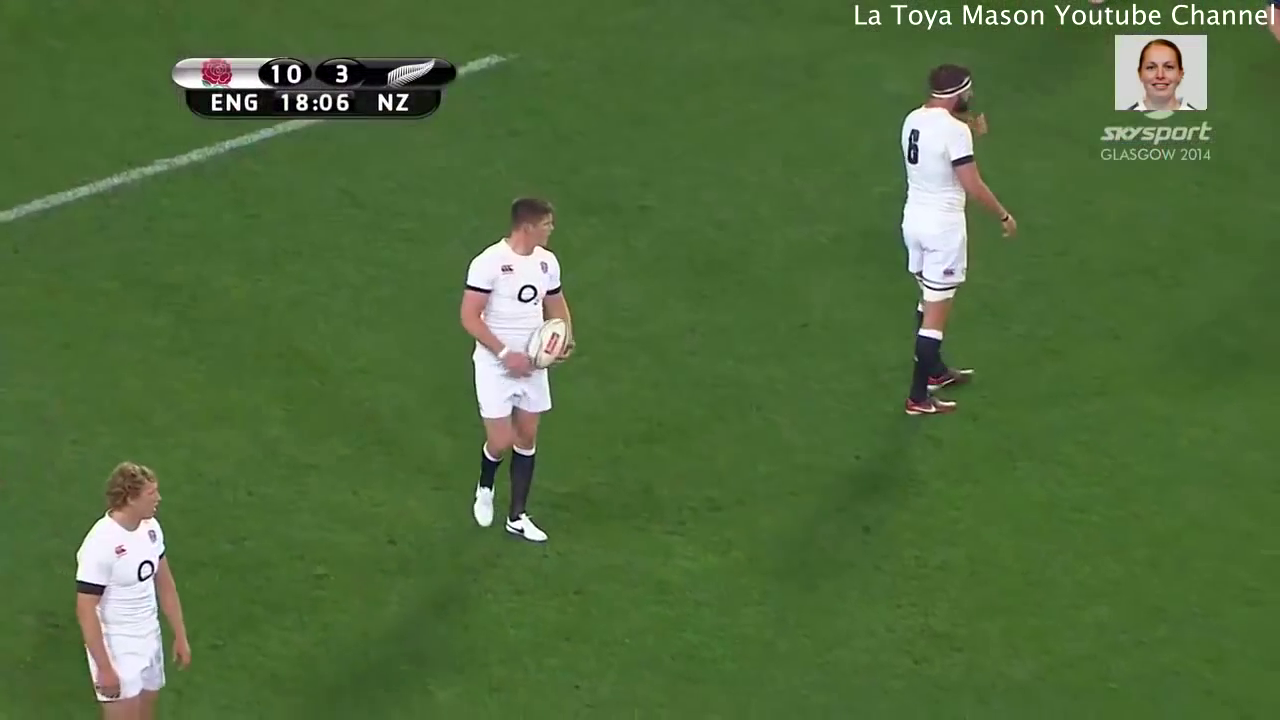ball: (521, 311, 581, 375)
player: (442, 192, 589, 548), (886, 60, 1023, 428), (71, 452, 201, 720)
